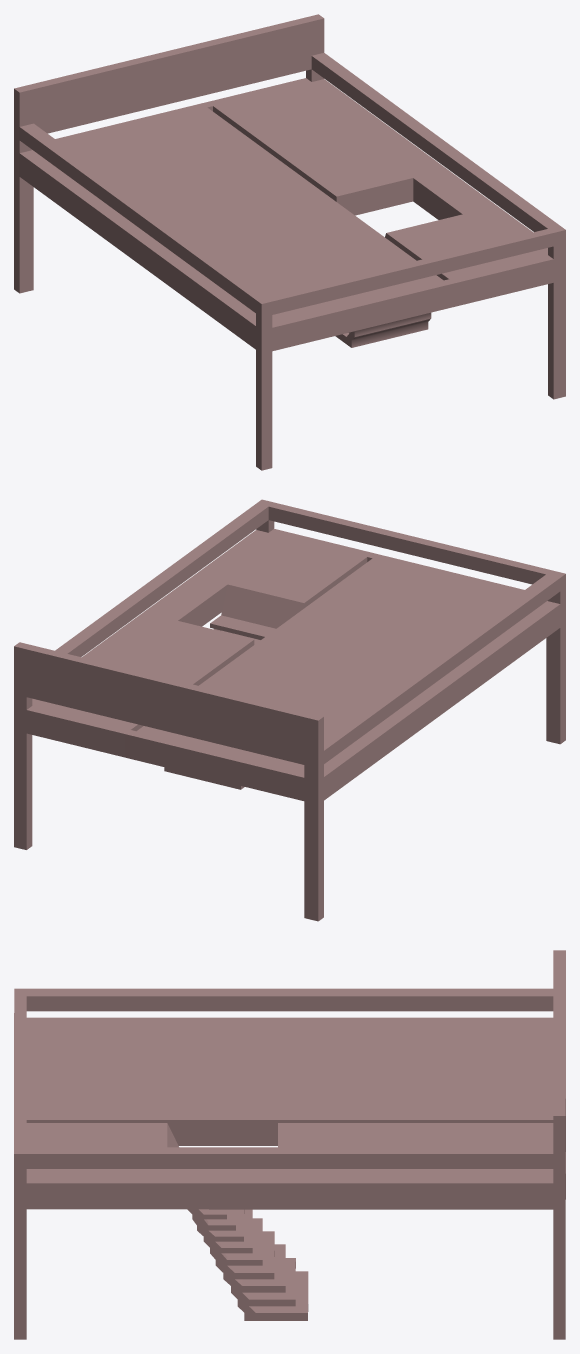
The model's file is Container_Stairs_4.fbx.
3 views of the same model, one above another, from view 1: azimuth 30°, elevation 25°; view 2: azimuth 150°, elevation 25°; view 3: azimuth 270°, elevation 25° (orthographic). The views are drawn at different scales.
Visible parts, largest first — view 1: pasted__pasted___pCube49; view 2: pasted__pasted___pCube49; view 3: pasted__pasted___pCube49.
Boxes of the visible parts, x1,y1,x2,y2 form: pasted__pasted___pCube49: (14,14,565,470); pasted__pasted___pCube49: (14,499,565,921); pasted__pasted___pCube49: (14,950,565,1339).
Bounding box in the file's own units: 11.37 × 7.17 × 16.02.
